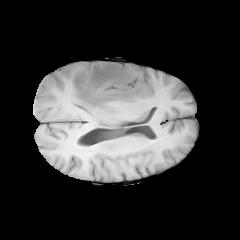glioma: (72, 62, 140, 113)
